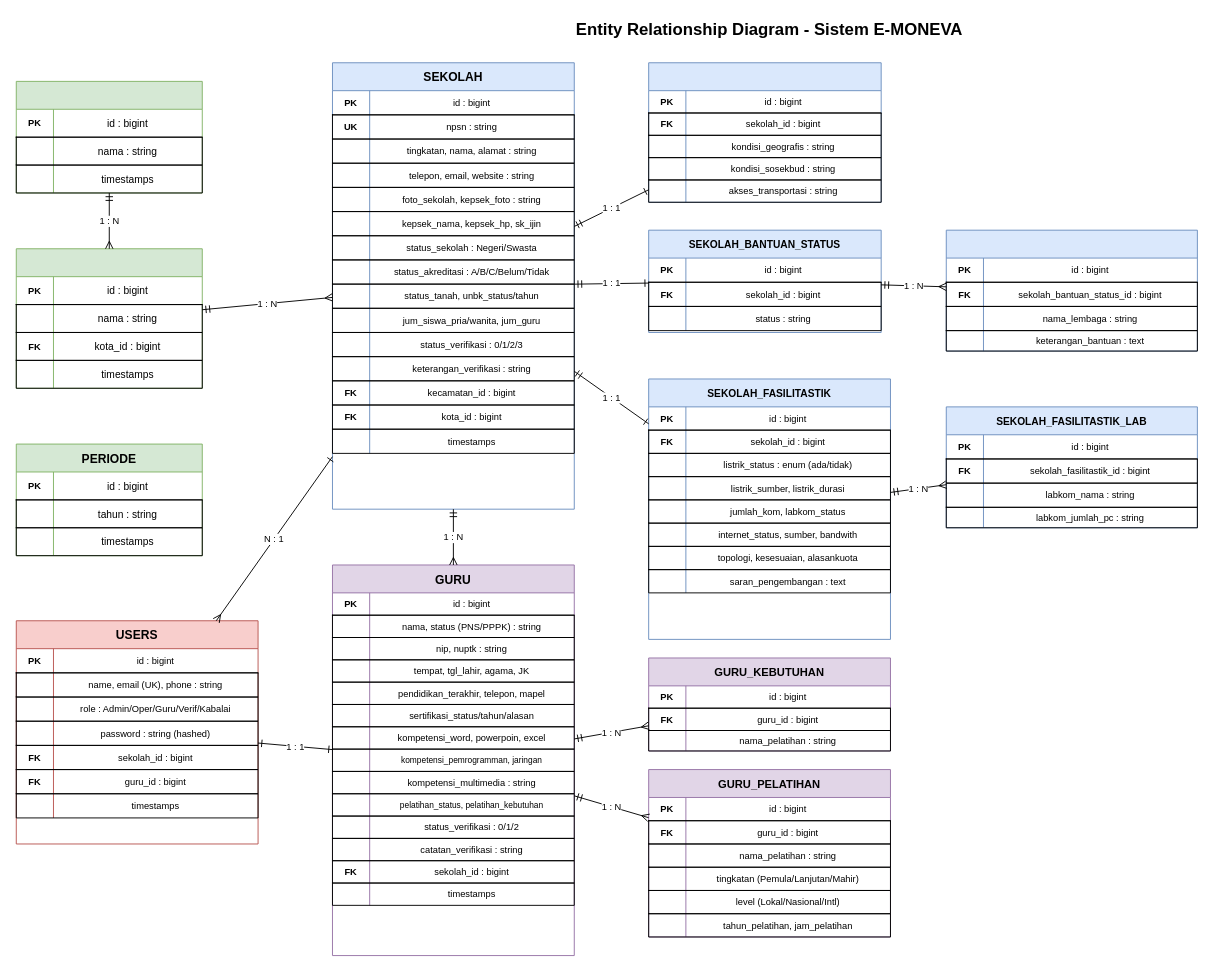
Image size: 1214x972. Some labels were removed from this diagram. The box of each missing label's shape, as (x1, y1, x2, y2) in pixels:
KECAMATAN: (15, 248, 202, 388)
KOTA: (15, 80, 202, 193)
SEKOLAH_BANTUAN_DETAIL: (945, 229, 1197, 351)
SEKOLAH_SOSEKBUD: (648, 62, 881, 202)
